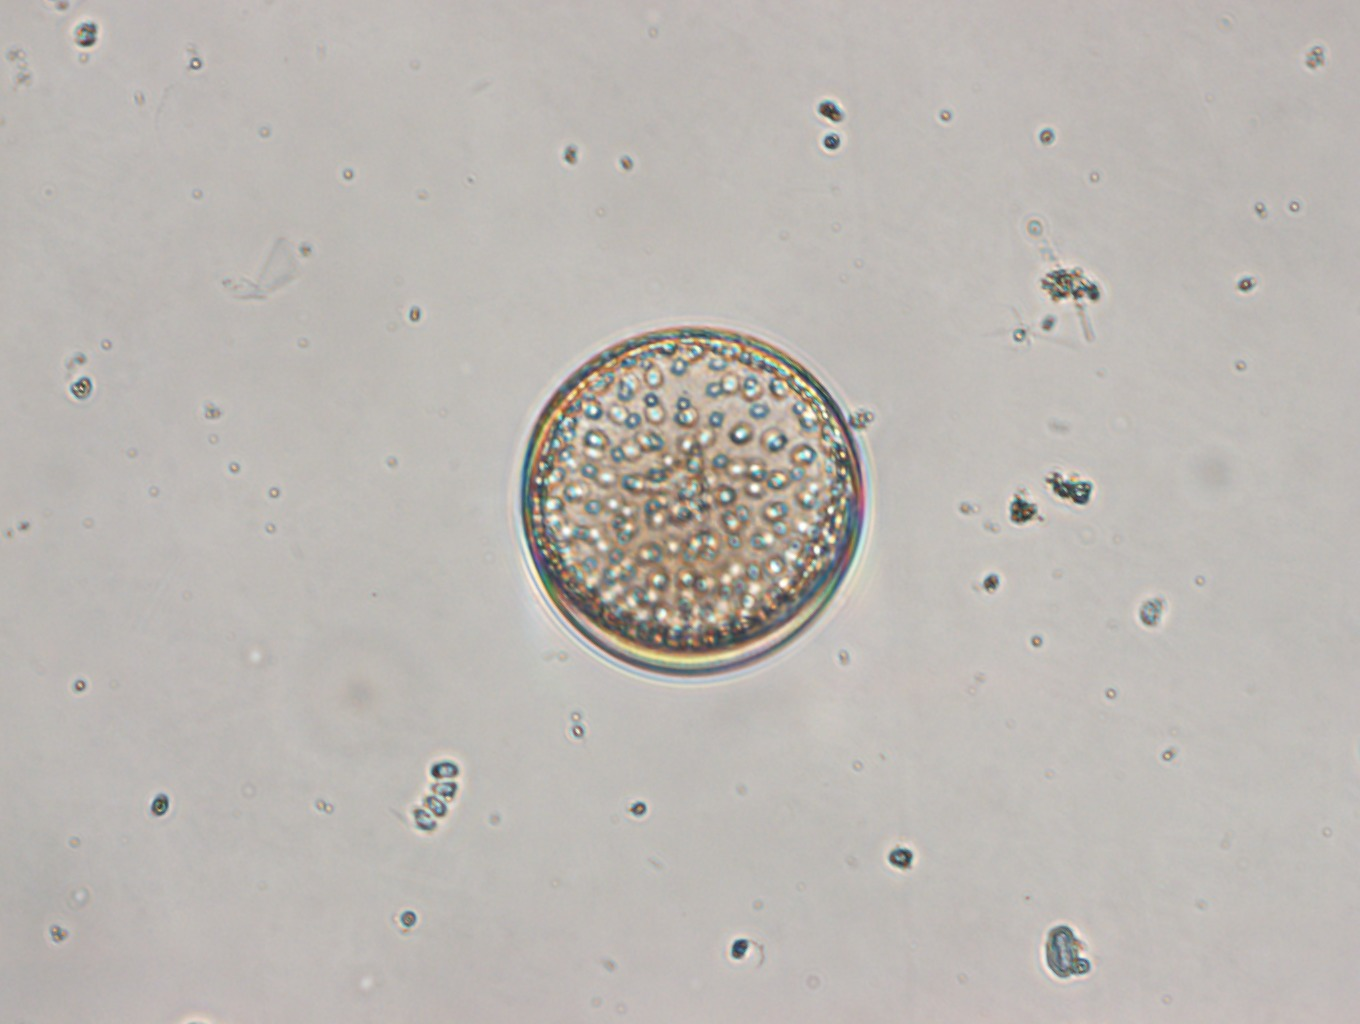coscinodiscus: (515, 324, 863, 675)
skeletonema: (410, 760, 459, 834)
